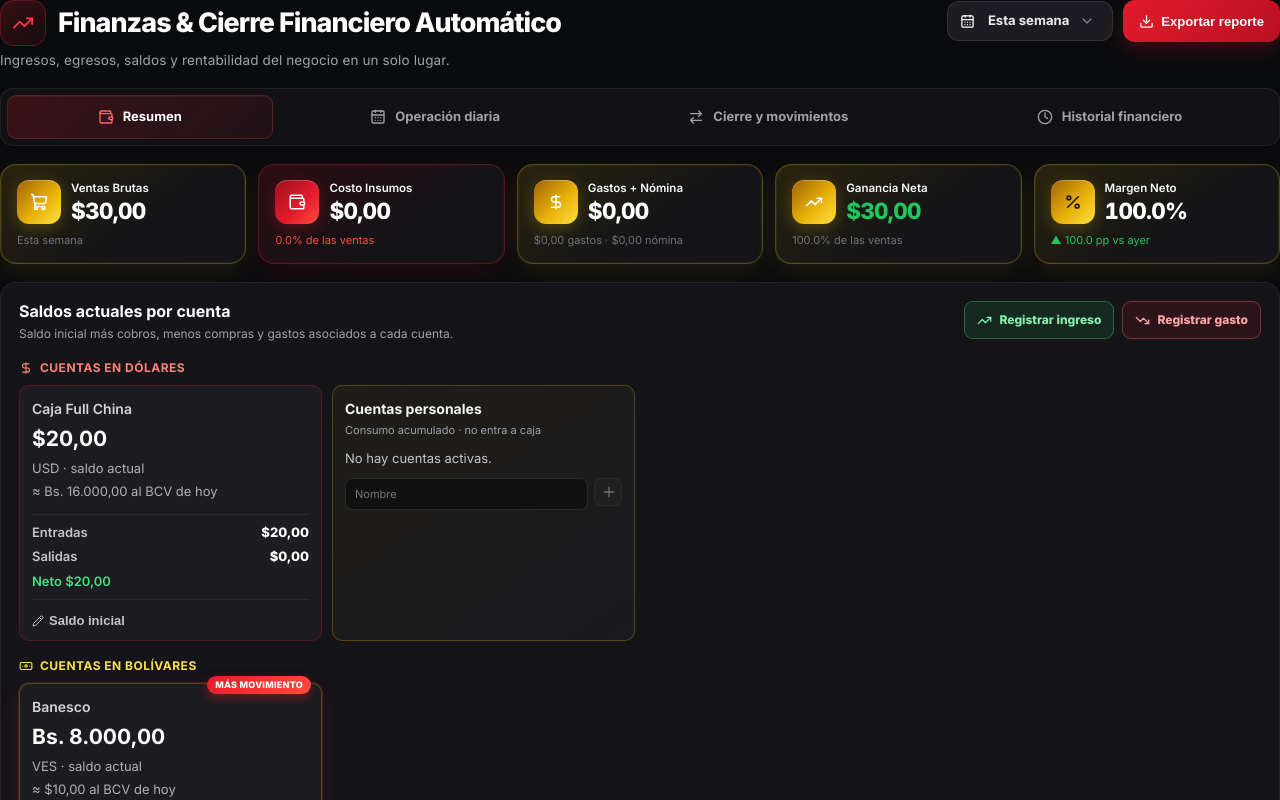
Test: Finanzas › prioriza bolívares en cobros VES y deja USD como referencia secundaria
Click the tab "Cierre y movimientos".
click(768, 117)  # box [598, 95, 939, 139]
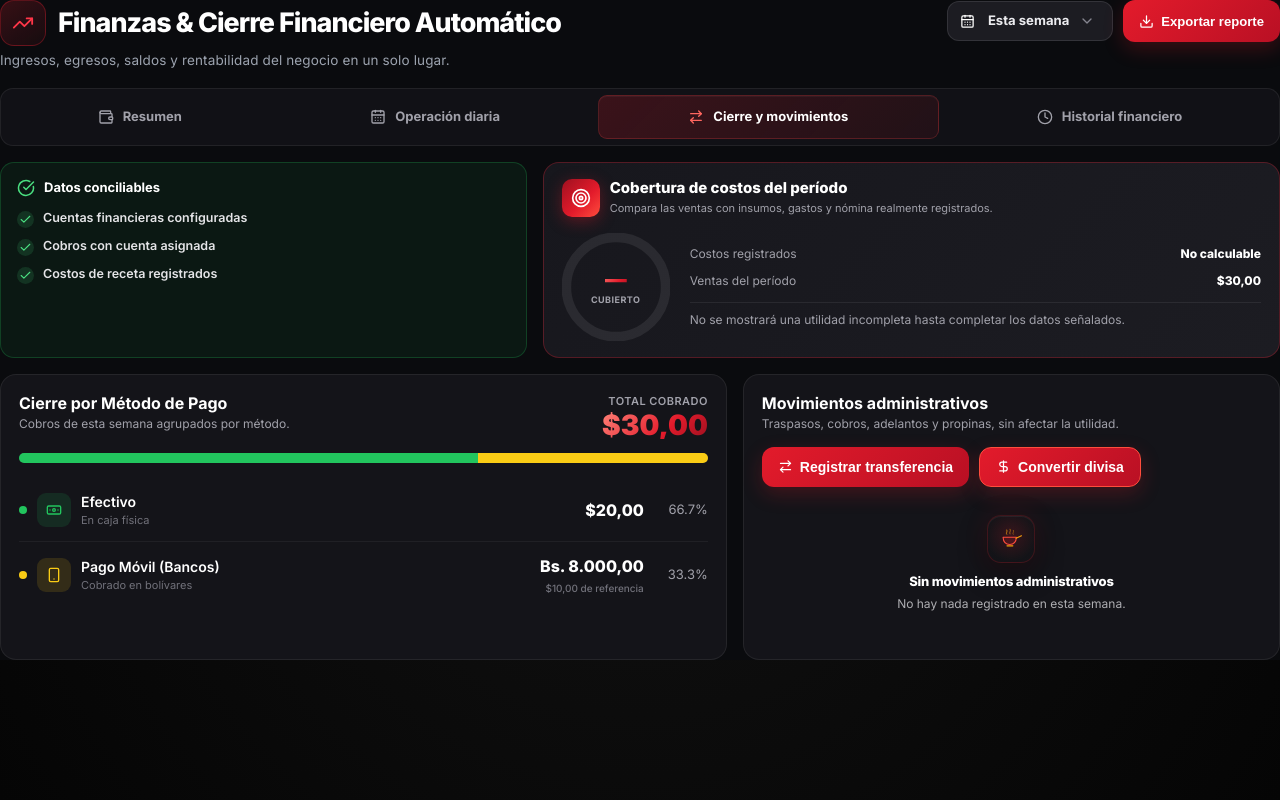
Expected: the text "Bs. 8.000,00" is shown, [540, 556, 644, 576]
Now the element "Cierre por Método de Pago" is shown, box [0, 374, 727, 660]
